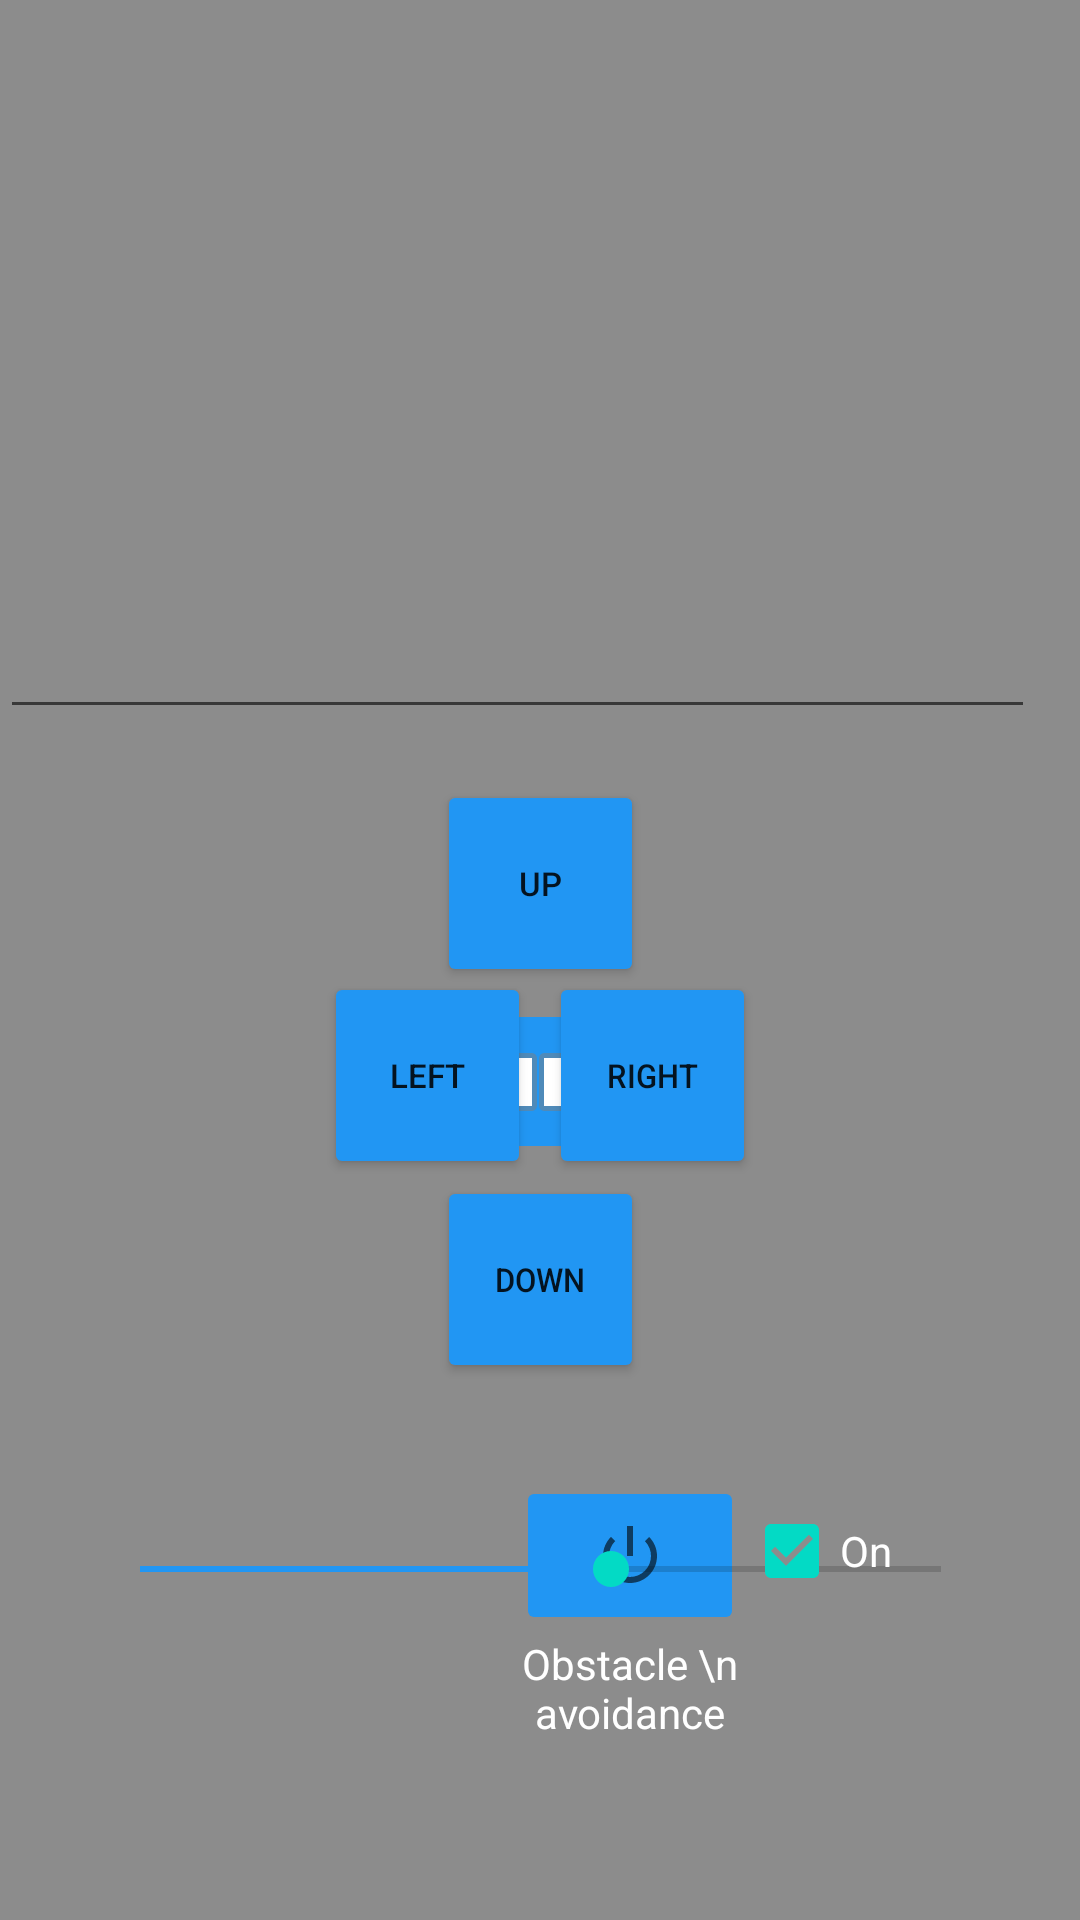

Screen size 1080w x 1920h. Icon name, then its center in pixels as (x=x, y=y):
lock power off: (x=624, y=1555)
pause: (x=540, y=1082)
